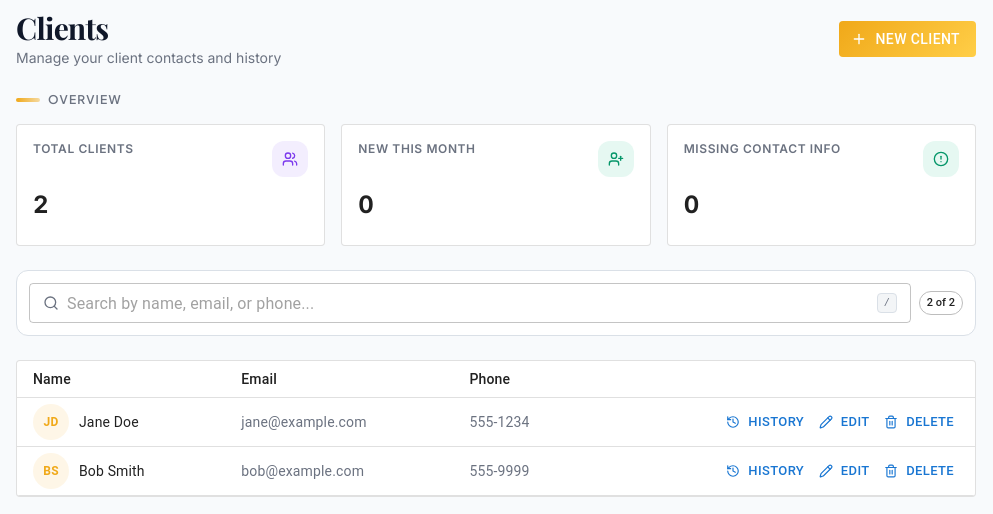
it: Clients › filters clients by the search box
In the field with placeholder "Search by name, email, or phone...": (468, 303) [67,283,869,323], type "Bob"
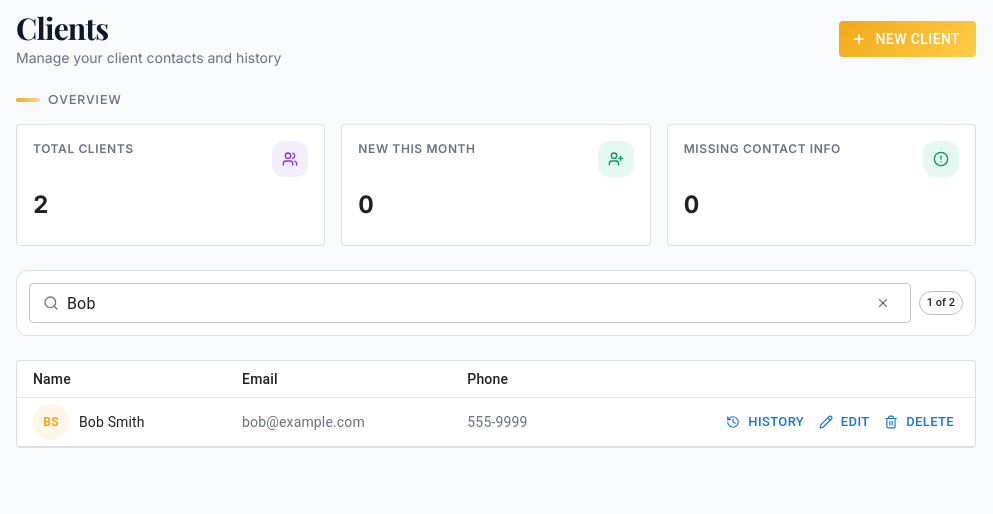
Now the text "Jane Doe" is not shown
